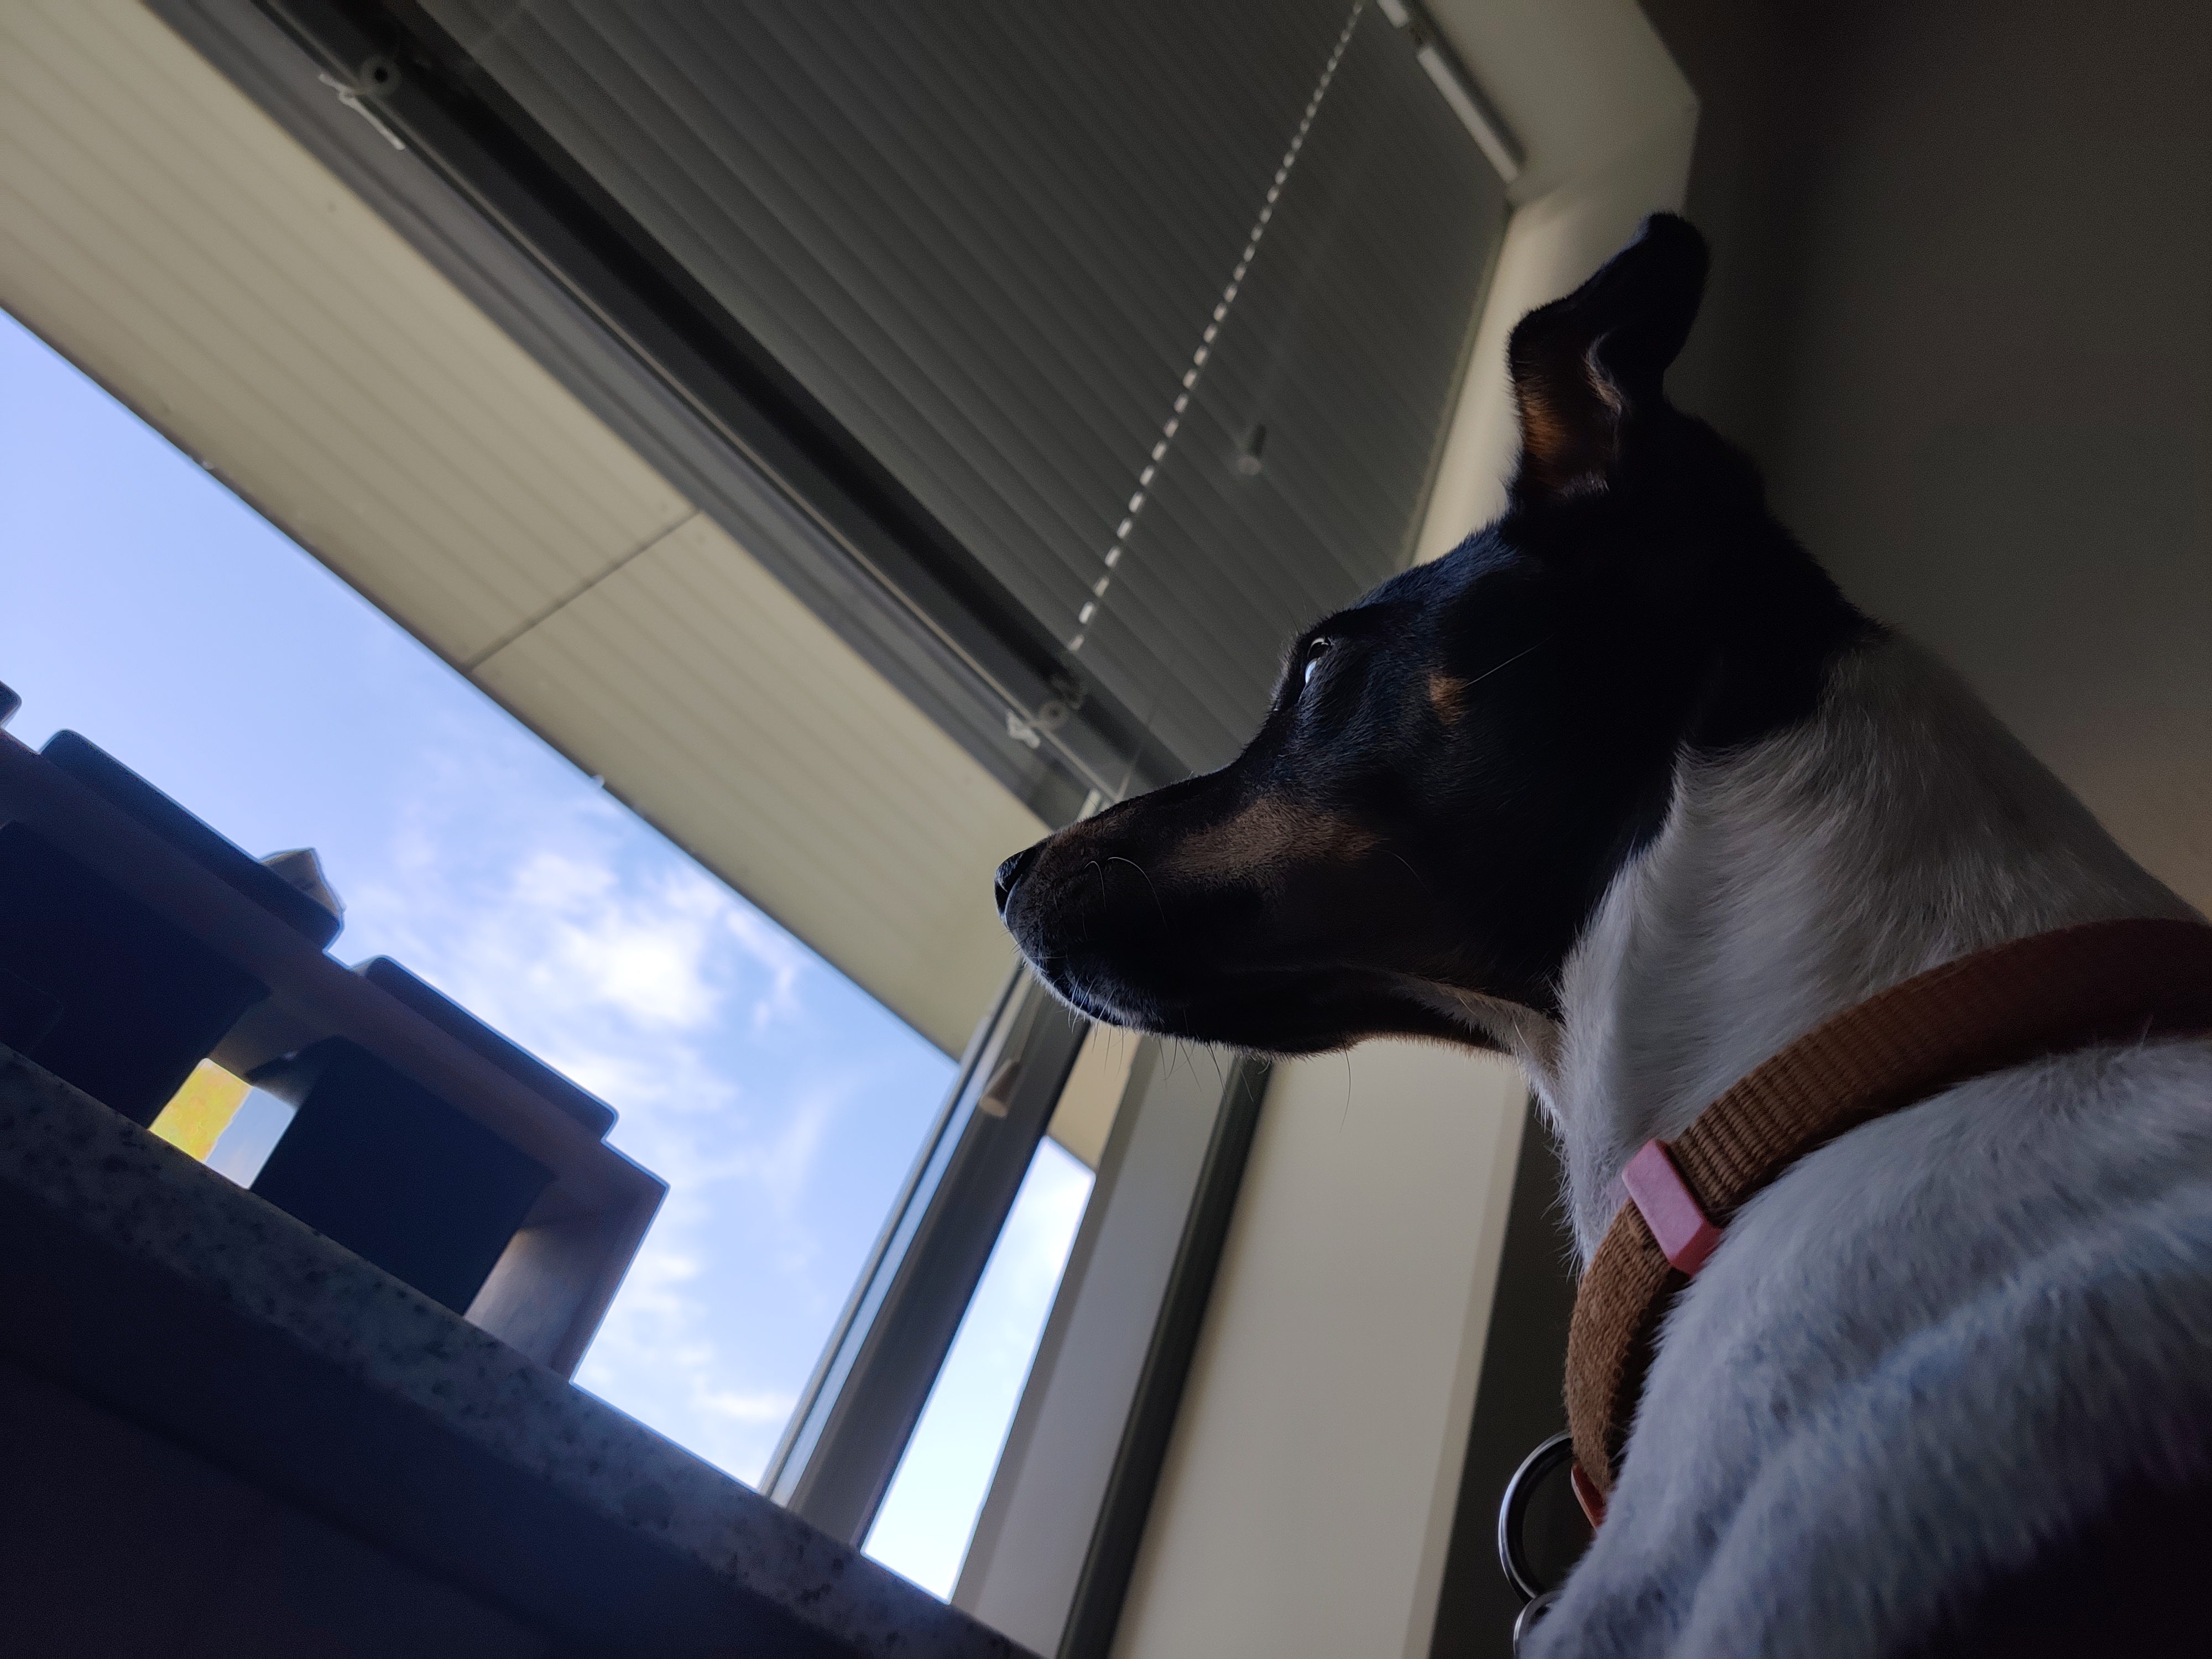Dog: (967, 192, 2212, 1659)
